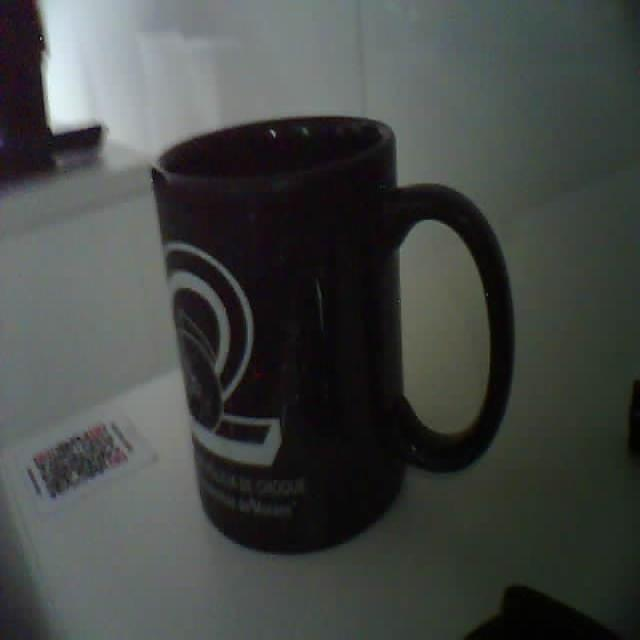caneca: (151, 116, 513, 551)
